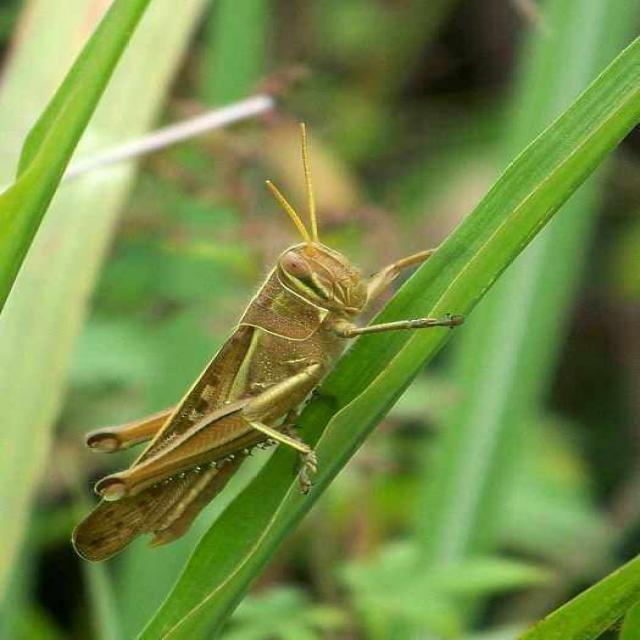ZhaMeng: (61, 124, 461, 598)
